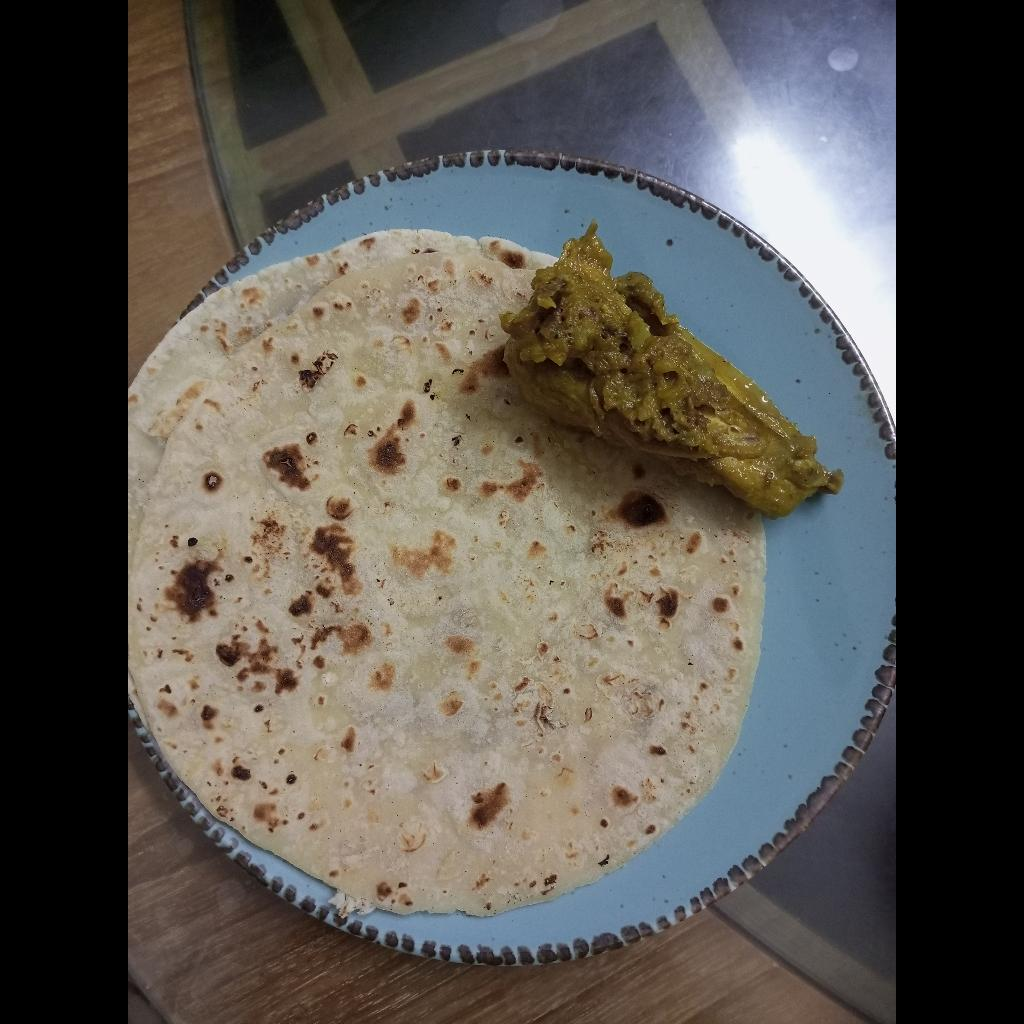chicken: (498, 216, 846, 508)
ruti: (128, 225, 774, 917)
